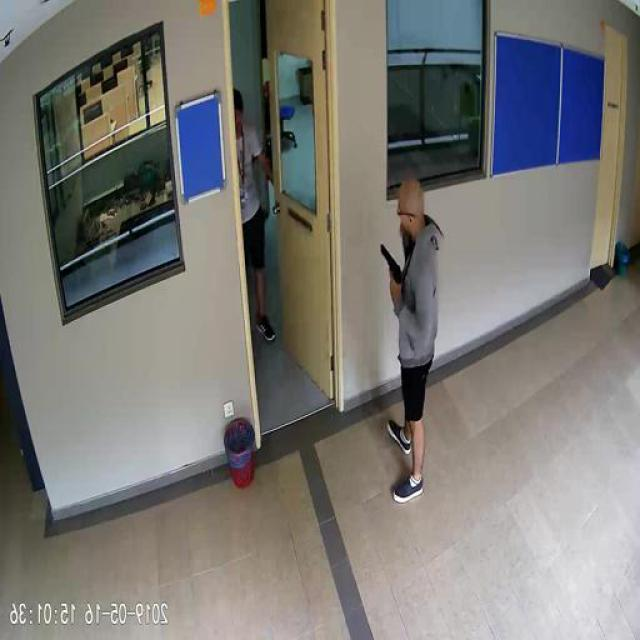Gun: (382, 242, 402, 292)
